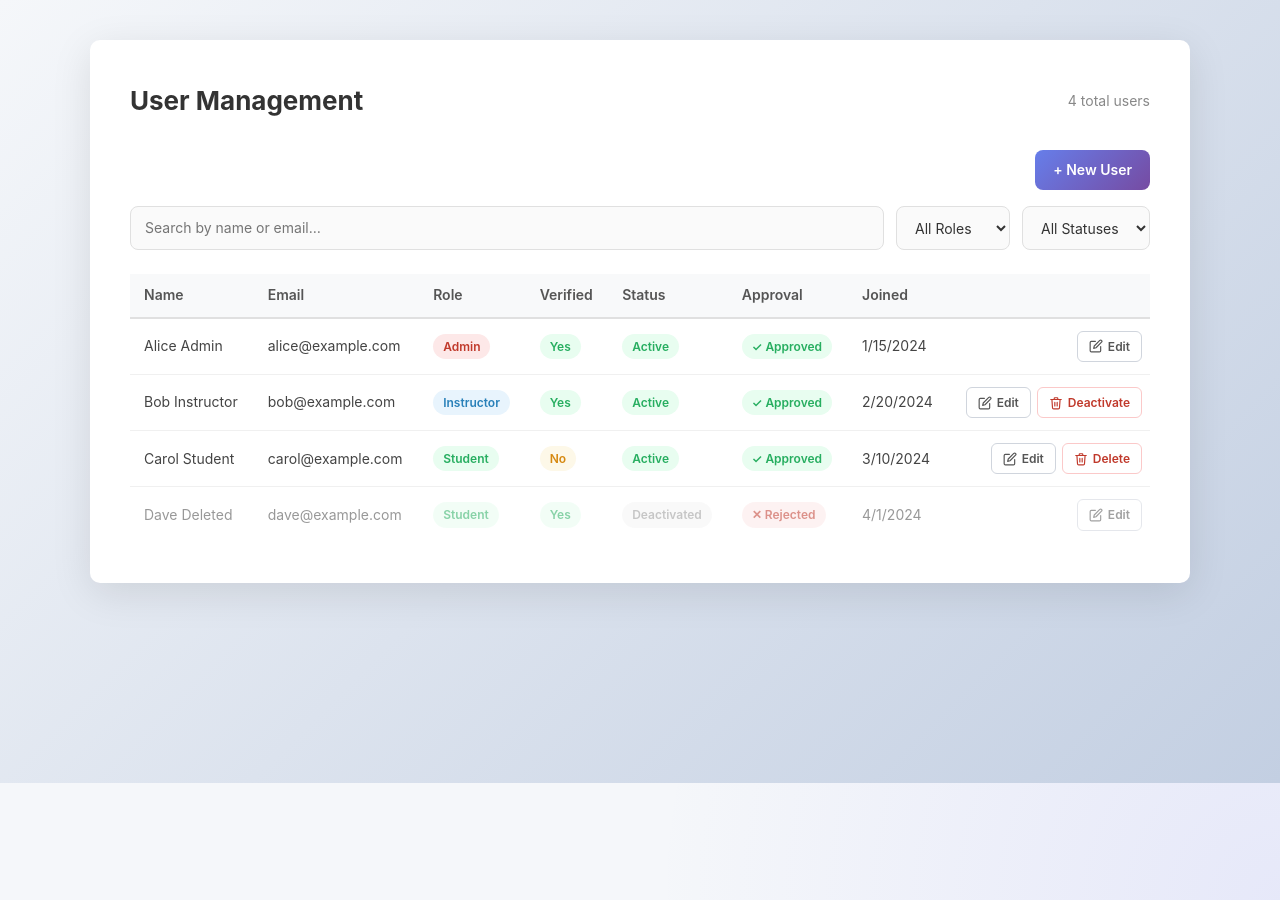
Test: UserList › role filter › filters to only admins
Expected: the text "Alice Admin" is shown, left=130, top=318, right=254, bottom=374
Select "Admin" in the dropdown named "filter by role". click: (953, 228)
box: left=896, top=206, right=1010, bottom=250
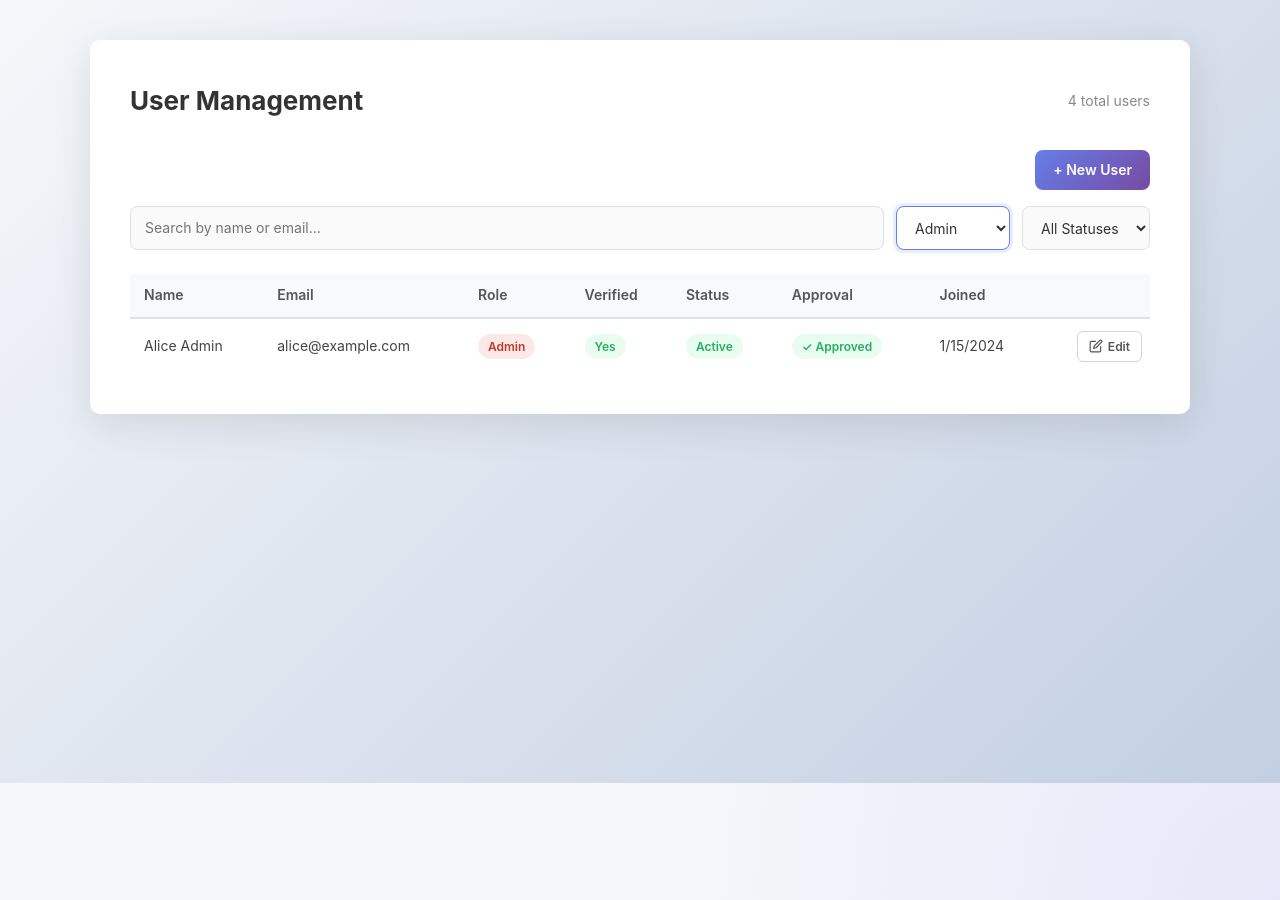
Expected: the text "Alice Admin" is shown, left=130, top=318, right=263, bottom=374
Expected: the text "Bob Instructor" is gone
Expected: the text "Carol Student" is gone
